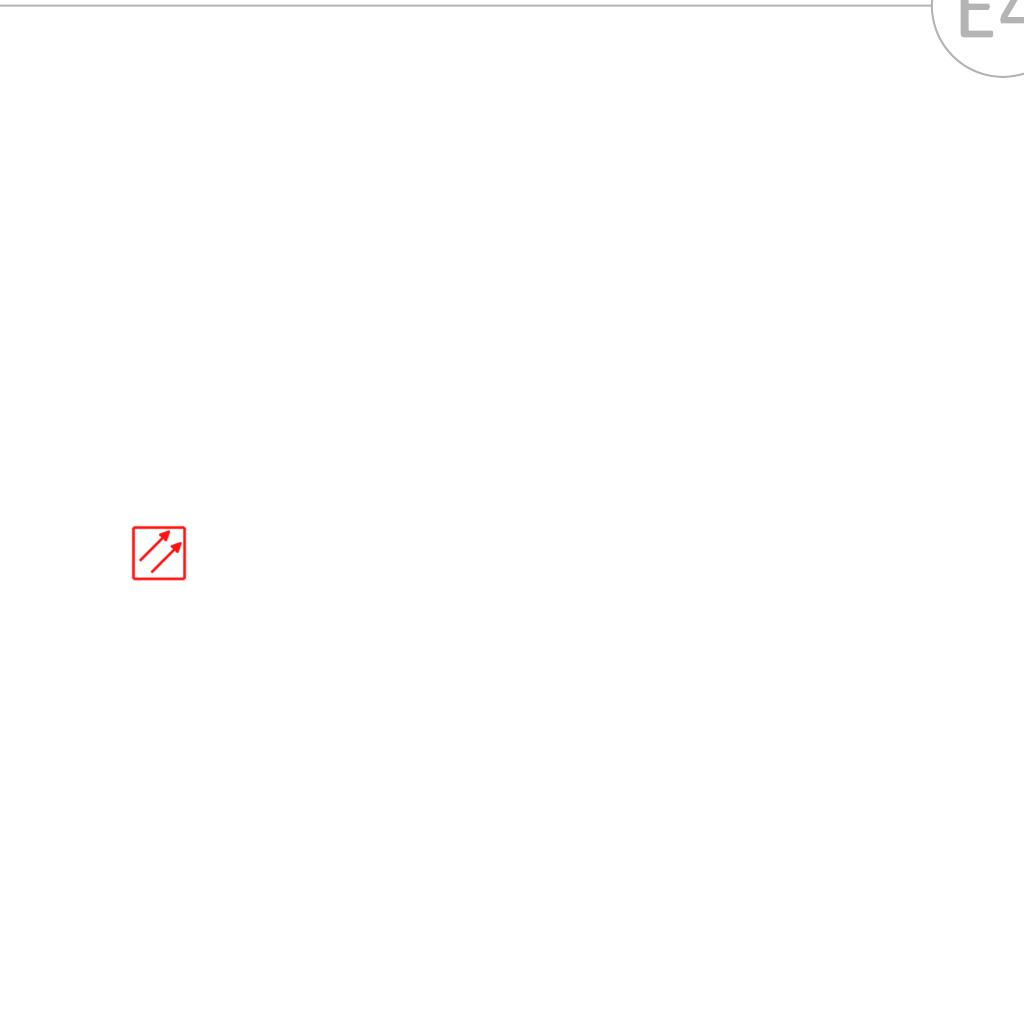RMO_Rauchmelder_optischer: (131, 525, 187, 581)
